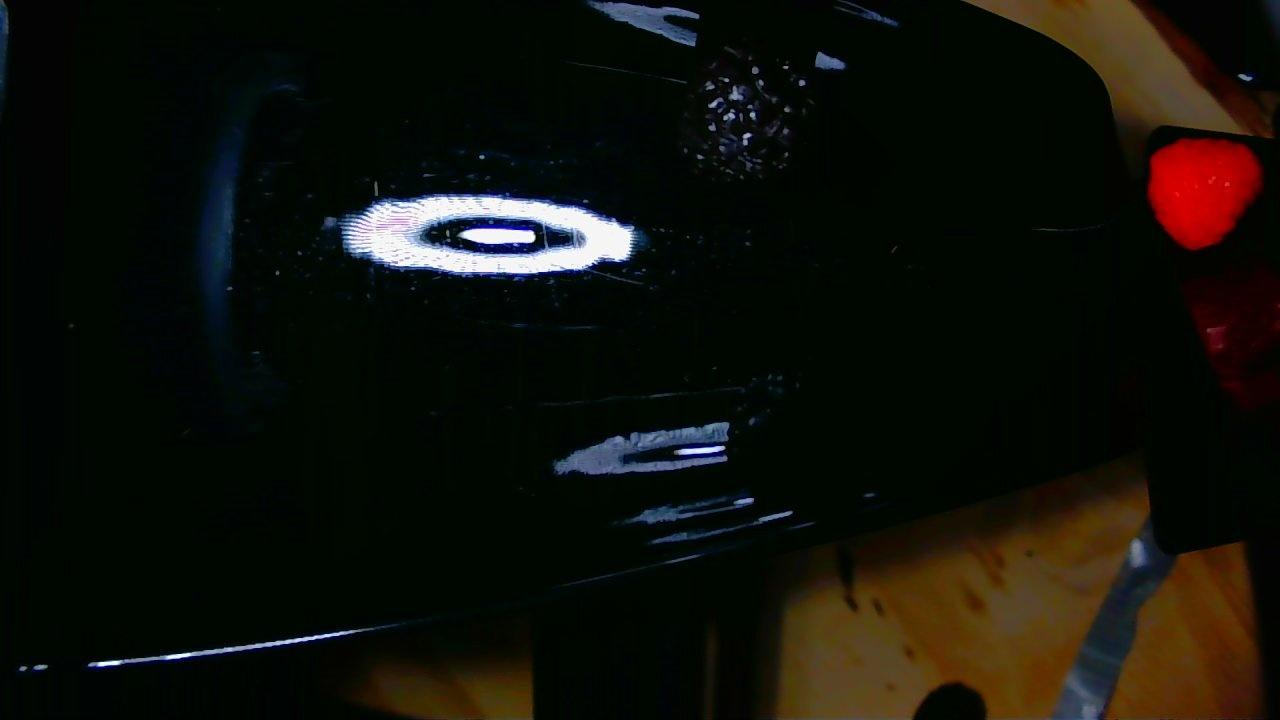berry: (683, 44, 811, 181), (1147, 139, 1262, 250)
